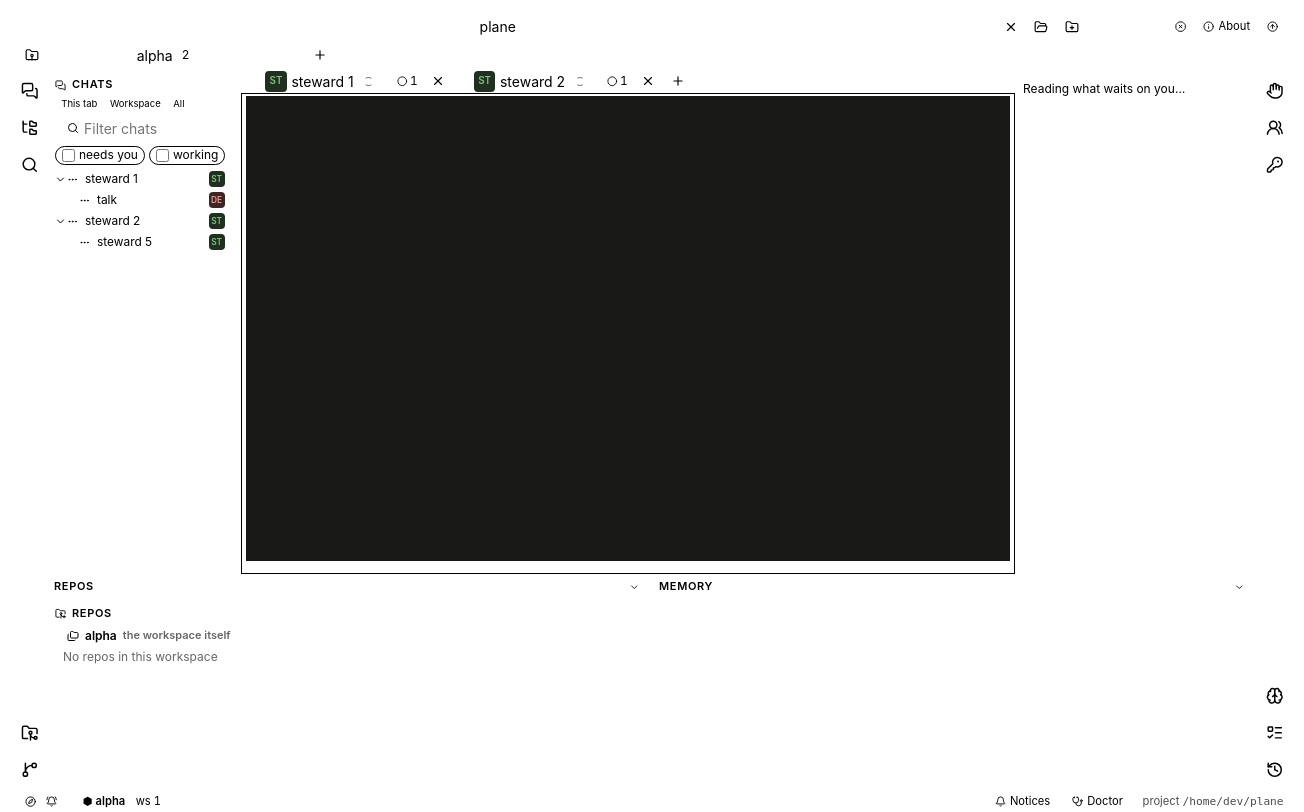
Test case: the first dispatch on a machine explains the chip (#1501) › is not shown to a chat nobody is at, and waits for one a person is at
Click the tab "steward 2".
click(527, 81)  # box [451,69,603,93]
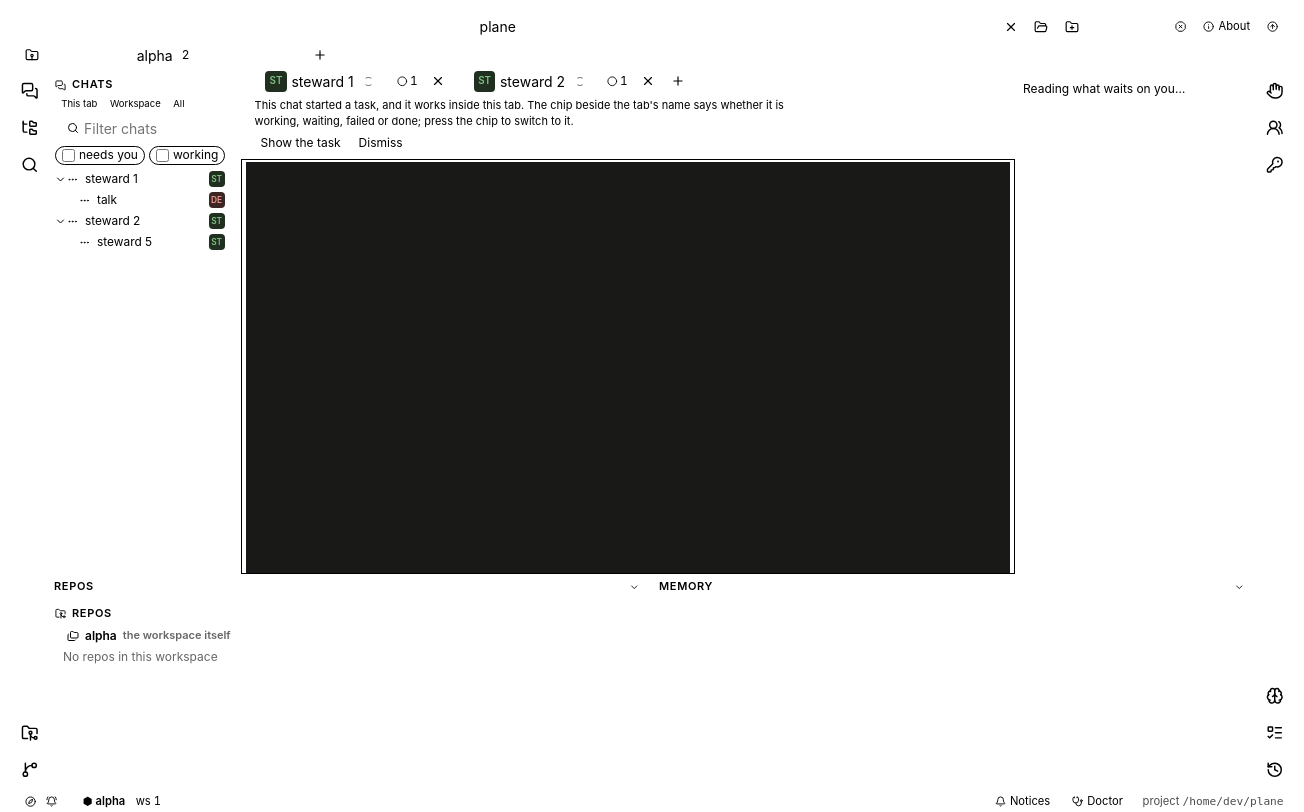
expect the text with class "notice-says" shows "This chat started a task": met, box [255,98,784,128]
